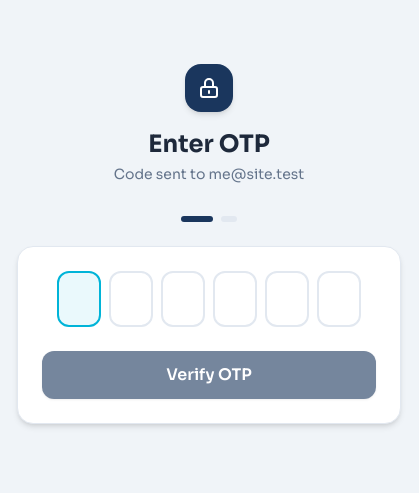
Test: ResetPasswordView › verifyForgotOtp success advances to step 2
The width and height of the screenshot is (419, 493).
In the 1st field: (79, 299) x1=57 y1=271 x2=101 y2=327, type "1"
In the 2nd field: (131, 299) x1=109 y1=271 x2=153 y2=327, type "2"
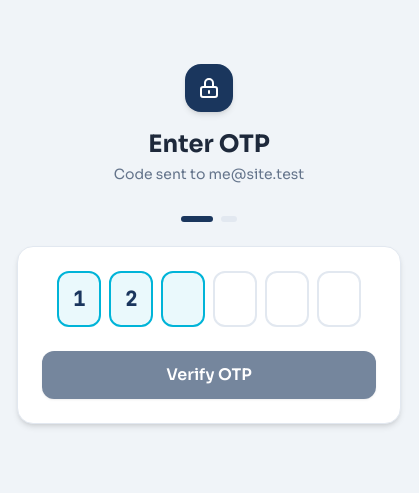
In the 3rd field: (183, 299) x1=161 y1=271 x2=205 y2=327, type "3"
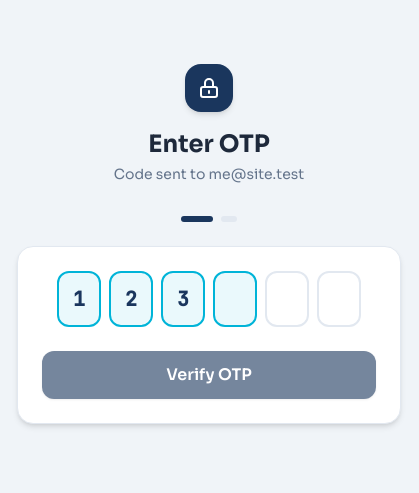
In the 4th field: (235, 299) x1=213 y1=271 x2=257 y2=327, type "4"
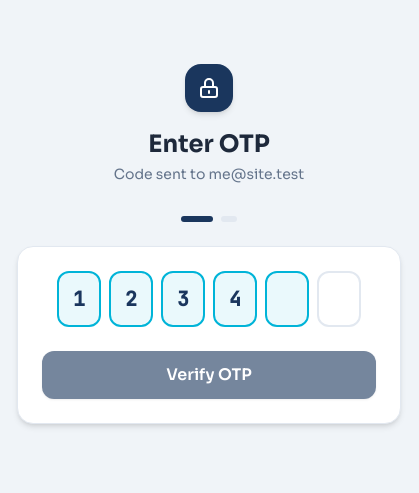
In the 5th field: (287, 299) x1=265 y1=271 x2=309 y2=327, type "5"
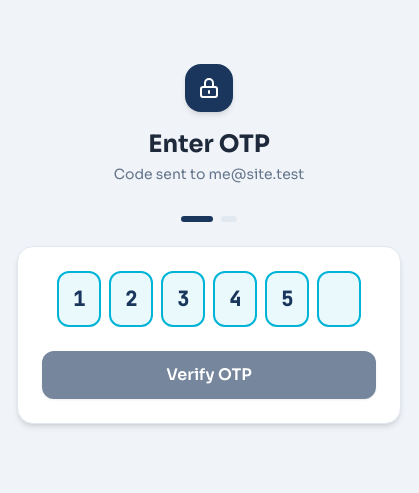
In the 6th field: (339, 299) x1=317 y1=271 x2=361 y2=327, type "6"
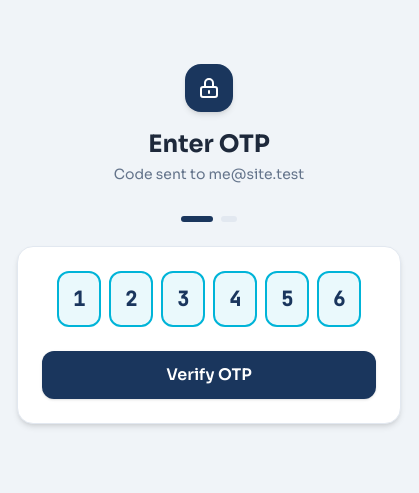
Click the button "Verify OTP": (209, 375) x1=42 y1=351 x2=376 y2=399
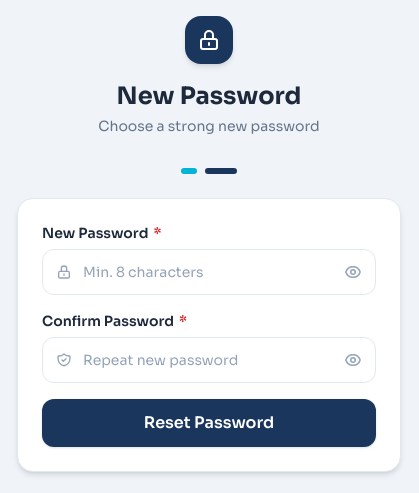
Check: the text "New Password" is shown, box x1=117 y1=81 x2=301 y2=111
